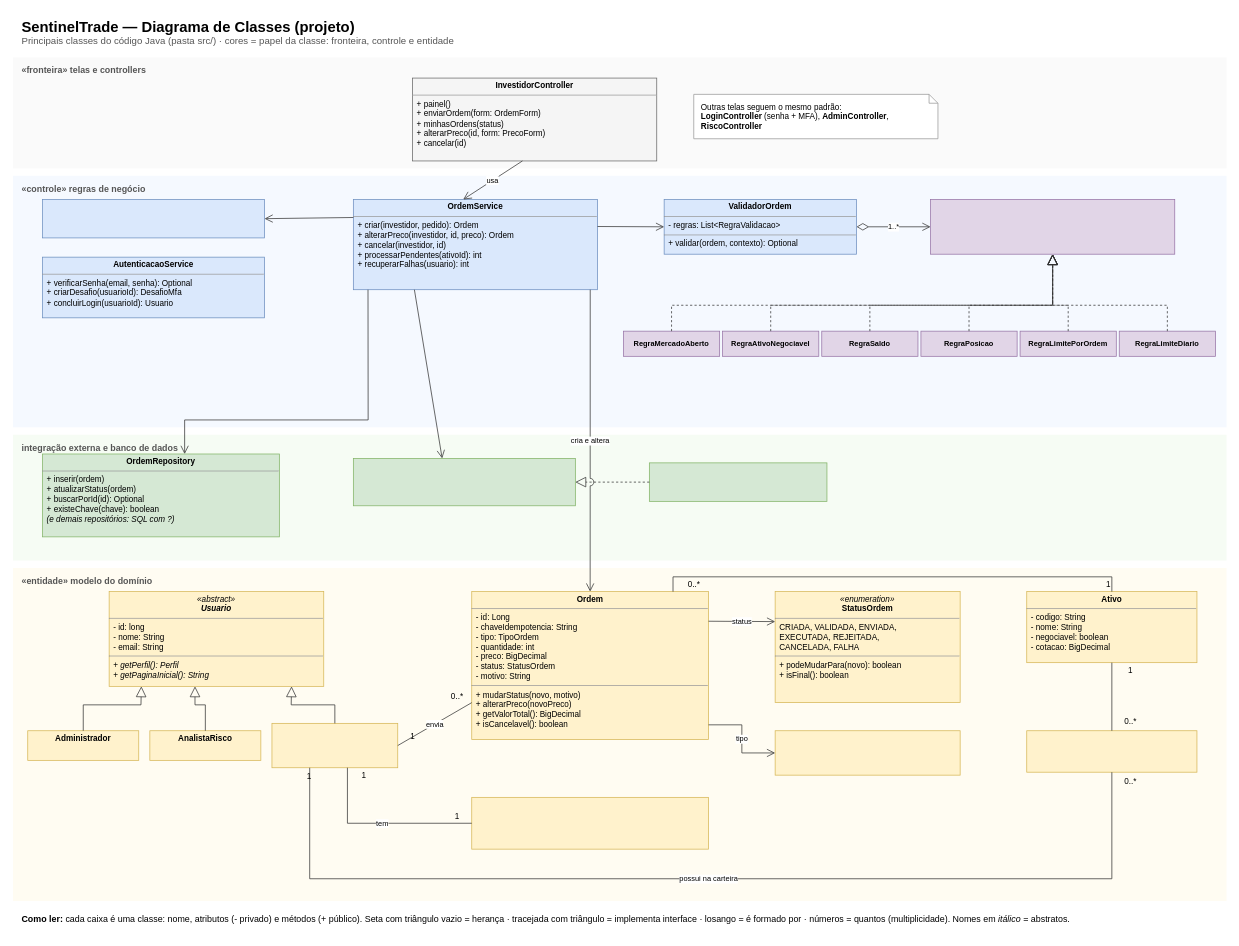
The diagram is 1239 pixels wide and 946 high, and some of its shapes have lost their labels. The centre of each missing label's shape, as x and y in pixels:
"AuditoriaService + registrar(usuario, acao, entidade, id, detalhes)" goes at pixel 153 218.
"BolsaSimulada + enviar(ordem): RespostaBolsa" goes at pixel 738 481.
"Investidor - contaId: long" goes at pixel 334 745.
"LimiteRisco - porOrdem: BigDecimal - diario: BigDecimal - altoRisco: BigDecimal" goes at pixel 590 823.
"Posicao - quantidade: int - precoMedio: BigDecimal" goes at pixel 1111 751.
"«enumeration» TipoOrdem COMPRA, VENDA" goes at pixel 867 752.
"«interface» BolsaGateway + enviar(ordem): RespostaBolsa" goes at pixel 464 482.
"«interface» RegraValidacao + verificar(ordem, contexto): Optional<String>" goes at pixel 1052 226.
